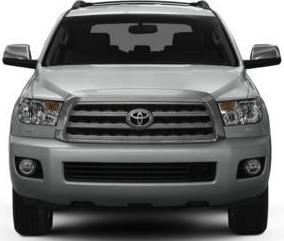front_view: (14, 81, 271, 215)
headlight: (212, 98, 267, 130)
